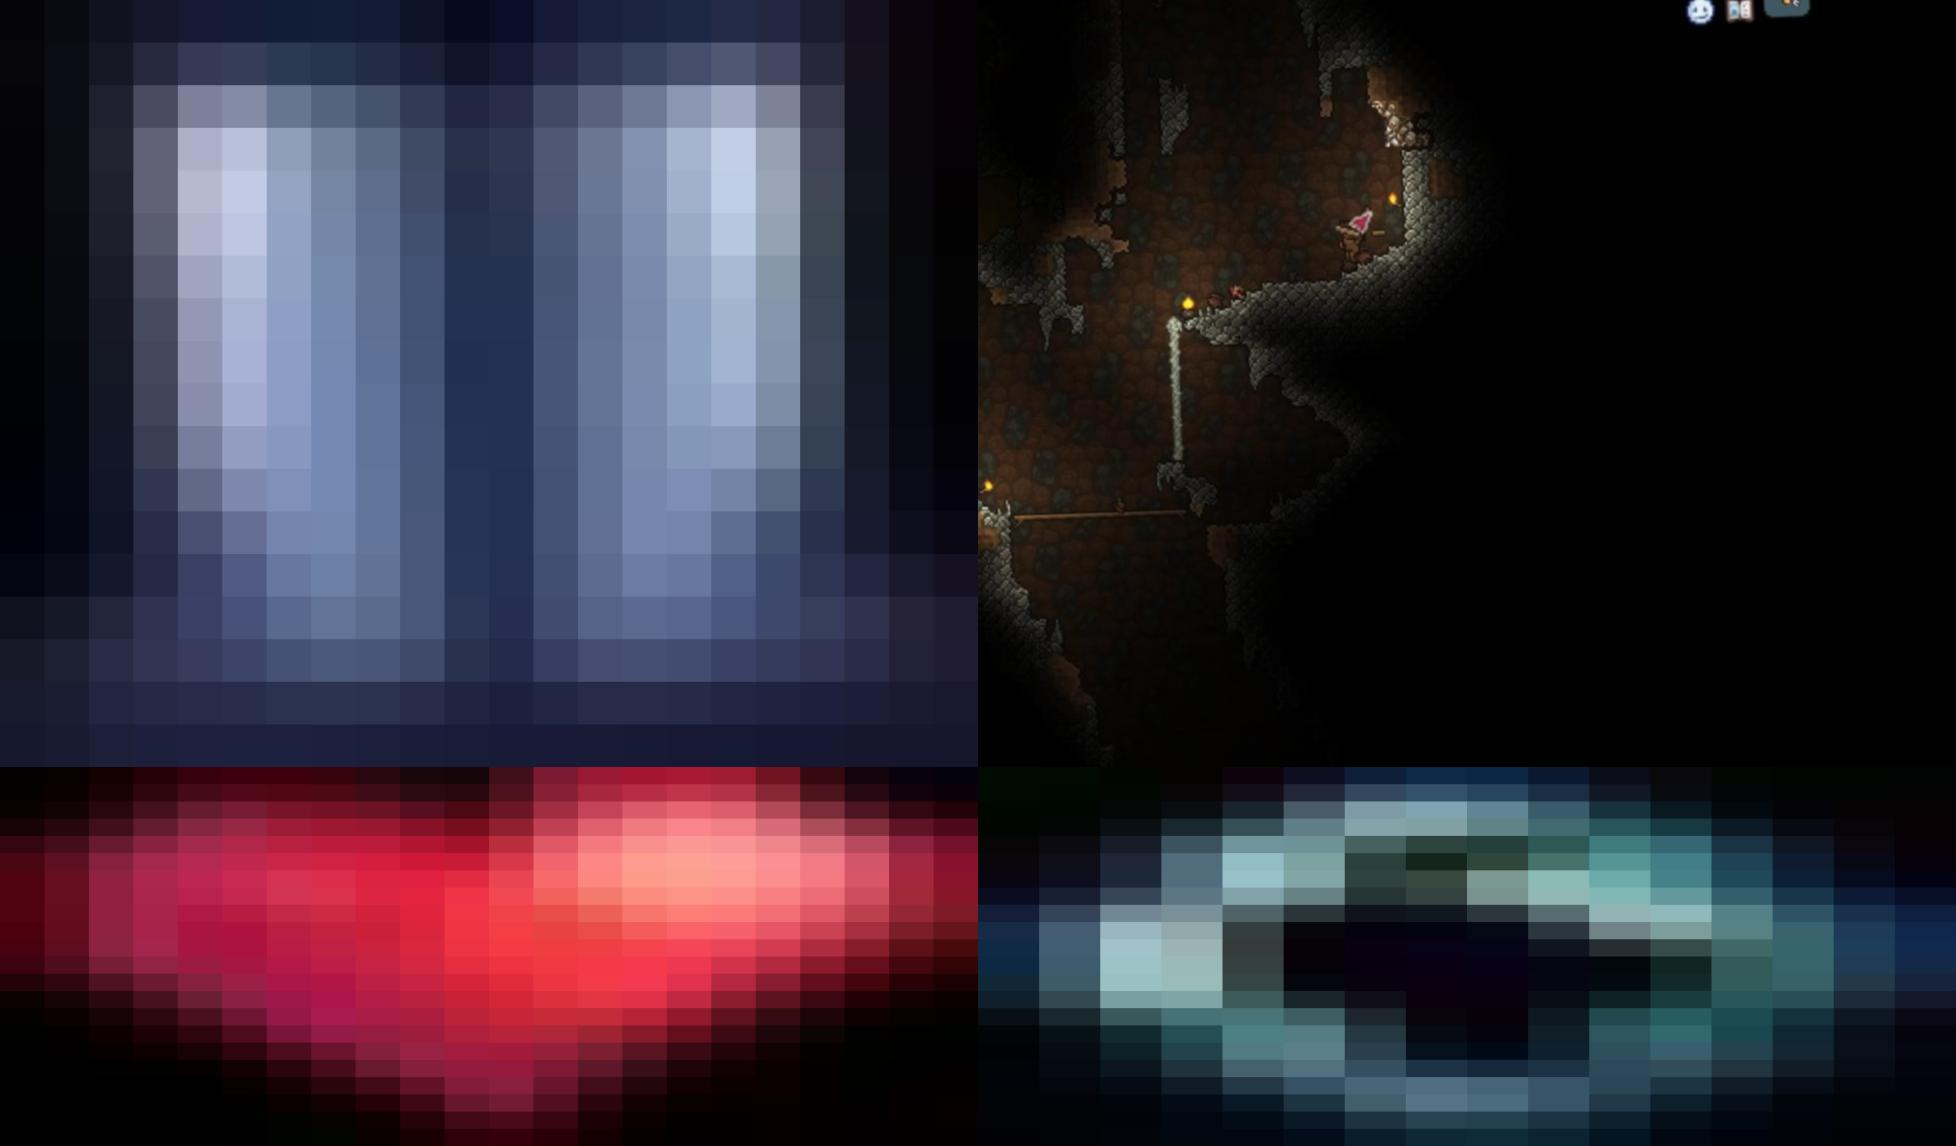heart: (0, 767, 978, 1146)
legs: (0, 0, 978, 767)
lens: (978, 767, 1956, 1146)
